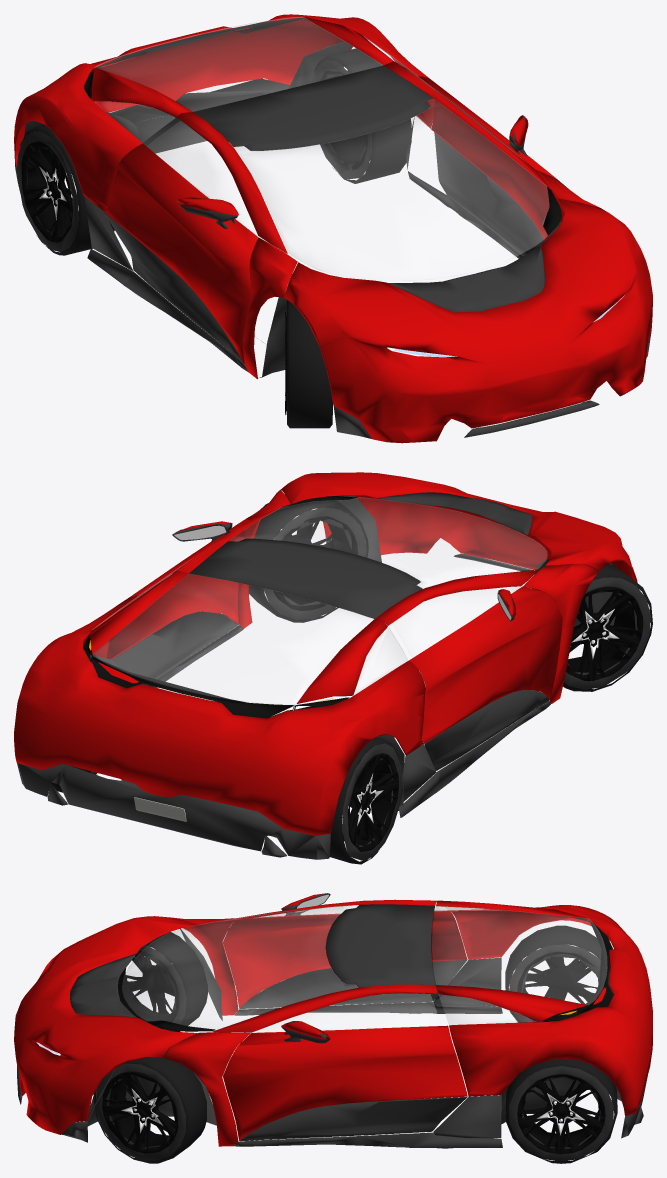
The model's file is car_lo.glb.
The picture shows the model from 3 angles, top to bottom: view 1: azimuth 30°, elevation 25°; view 2: azimuth 150°, elevation 25°; view 3: azimuth 270°, elevation 25°; orthographic projection. The views are drawn at different scales.
Visible parts, largest first — view 1: BodyHood, BodyWindshield, BodyRearPanelsColor1, BodyRearwindow, BodyDoorRColor1, BodyRoofPanel, BodyPanelsColor2, BodyPillars, BodyDoorLColor1, BodyDoorLColor2, BodyHoodTopgrill, WheelFrontR (+10 smaller); view 2: BodyRearPanelsColor1, BodyRearwindow, BodyWindshield, BodyHood, BodyPanelsColor2, BodyDoorRColor1, BodyRoofPanel, BodyPillars, BodyDoorLColor1, WheelFrontRRim, BodyDoorLColor2, WheelFrontL (+11 smaller); view 3: BodyRearPanelsColor1, BodyWindshield, BodyDoorLColor1, BodyHood, BodyRearwindow, BodyPanelsColor2, BodyPillars, BodyDoorRColor1, BodyRoofPanel, BodyDoorLColor2, WheelFrontL, WheelRearLRim (+14 smaller).
Boxes of the visible parts, x1,y1,x2,y2 form: BodyHood: (284,199,652,443); BodyWindshield: (234,98,548,280); BodyRearPanelsColor1: (14,14,435,211); BodyRearwindow: (94,17,382,111); BodyDoorRColor1: (104,143,257,363); BodyRoofPanel: (193,65,432,150); BodyPanelsColor2: (15,78,651,438); BodyPillars: (177,61,599,379); BodyDoorLColor1: (419,76,563,239); BodyDoorLColor2: (434,132,544,255); BodyHoodTopgrill: (388,245,544,312); WheelFrontR: (287,300,332,428); BodyRearPanelsColor1: (14,571,425,835); BodyRearwindow: (92,574,373,704); BodyWindshield: (229,497,547,588); BodyHood: (278,472,637,582); BodyPanelsColor2: (17,539,550,859); BodyDoorRColor1: (409,586,562,743); BodyRoofPanel: (189,538,422,618); BodyPillars: (172,490,598,703); BodyDoorLColor1: (106,519,250,659); WheelFrontRRim: (559,586,643,681); BodyDoorLColor2: (112,611,238,685); WheelFrontL: (249,495,368,622); BodyRearPanelsColor1: (436,900,652,1116); BodyWindshield: (122,905,357,1028); BodyDoorLColor1: (223,1025,467,1140); BodyHood: (14,916,196,1134); BodyRearwindow: (432,906,607,1004); BodyPanelsColor2: (17,957,647,1148); BodyPillars: (163,899,437,1146); BodyDoorRColor1: (222,910,467,1008); BodyRoofPanel: (326,904,434,987); BodyDoorLColor2: (240,1097,467,1140); WheelFrontL: (93,1051,206,1163); WheelRearLRim: (517,1074,605,1154).
Size of the model in its own units: 2.54 by 1.15 by 4.35.
14 materials, 1 textured.
